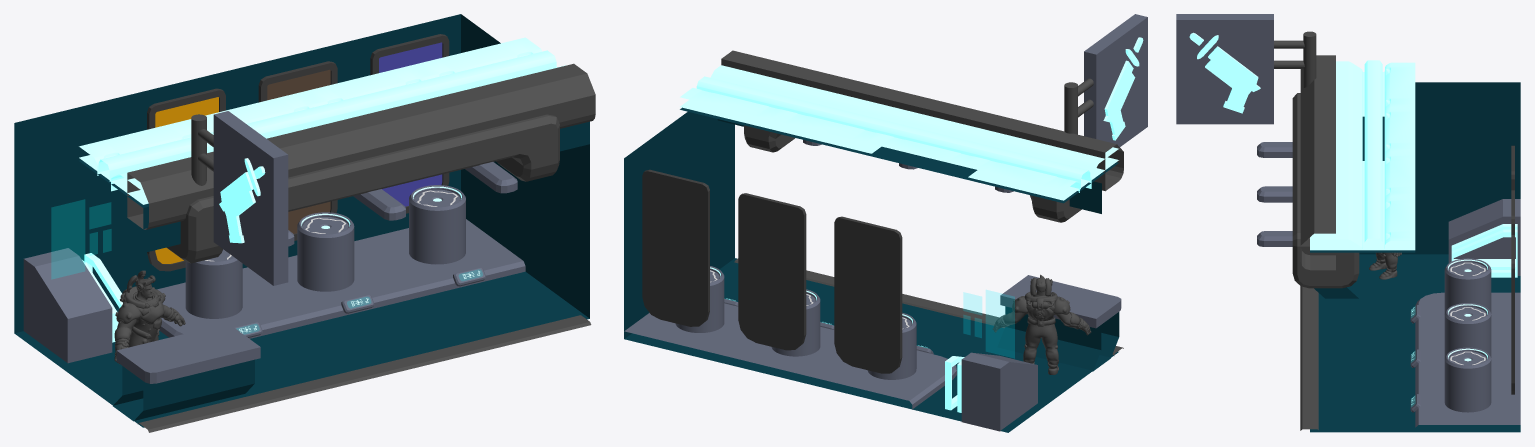
File: MB_Shop_Weaponsmith.fbx
3 renders of one model, left to right at view 1: azimuth 30°, elevation 25°; view 2: azimuth 150°, elevation 25°; view 3: azimuth 270°, elevation 25°, orthographic. The views are drawn at different scales.
Visible parts, largest first — view 1: Cube.6560, Cylinder.006, Cube.6561; view 2: Cube.6560, Cube.6561, Cylinder.006; view 3: Cube.6560, Cube.6561, Cylinder.006.
Boxes of the visible parts, <box> form: Cube.6560: <box>14,14,595,432</box>; Cylinder.006: <box>185,185,465,318</box>; Cube.6561: <box>191,111,288,285</box>; Cube.6560: <box>624,50,1123,432</box>; Cube.6561: <box>1064,14,1147,146</box>; Cylinder.006: <box>675,266,916,379</box>; Cube.6560: <box>1257,55,1520,432</box>; Cube.6561: <box>1176,14,1316,124</box>; Cylinder.006: <box>1444,258,1491,412</box>.
Bounding box in the file's own units: 8 × 5.47 × 6.54.
